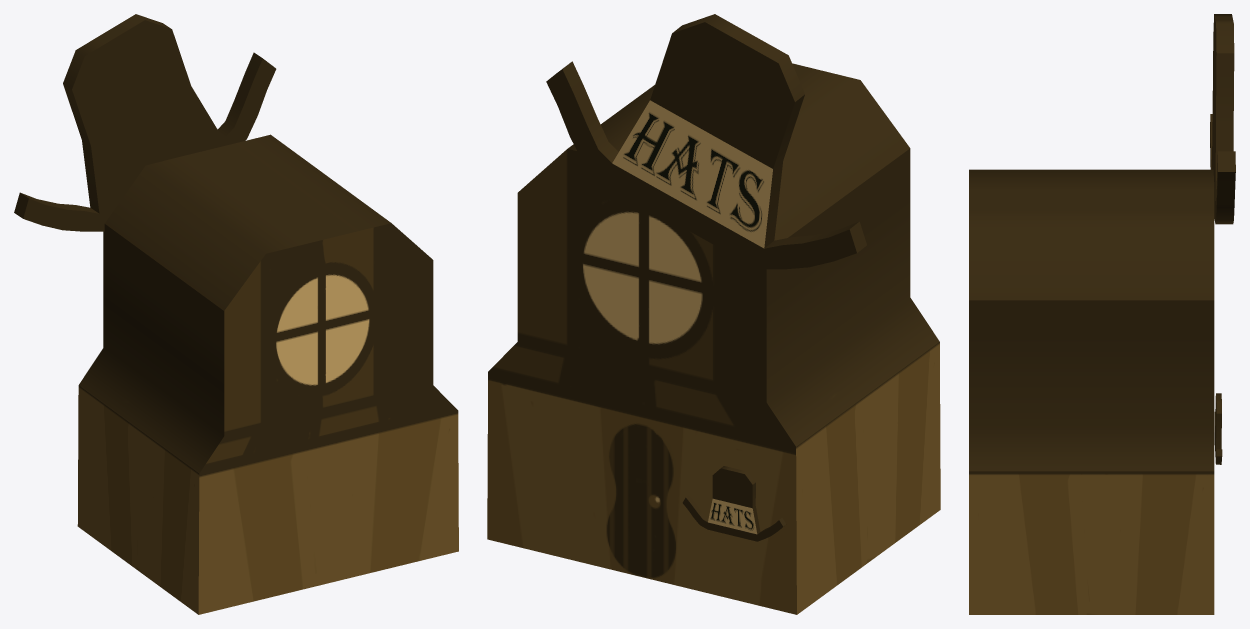
Rendered from house2.fbx.
3 renders of one model, left to right at view 1: azimuth 30°, elevation 25°; view 2: azimuth 150°, elevation 25°; view 3: azimuth 270°, elevation 25°, orthographic. The views are drawn at different scales.
Visible parts, largest first — view 1: house2; view 2: house2; view 3: house2.
Boxes of the visible parts, <box> form: house2: <box>14,14,458,614</box>; house2: <box>487,14,940,614</box>; house2: <box>969,14,1235,614</box>.
Size of the model in its own units: 0.0354 by 0.0521 by 0.0254.
